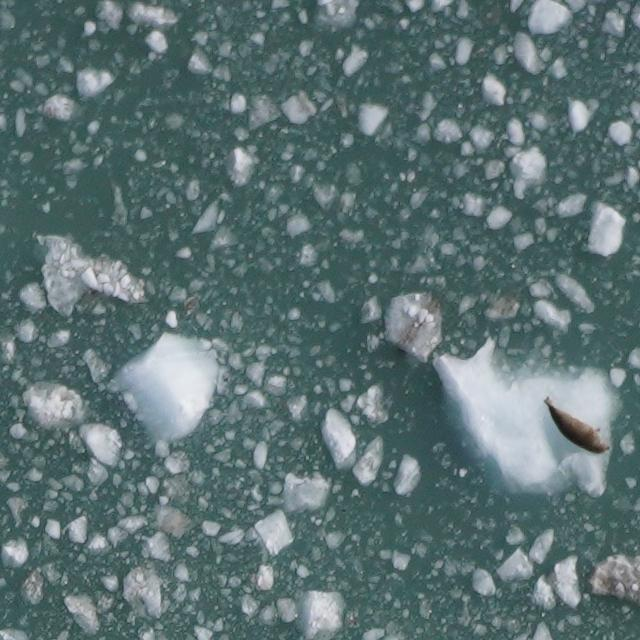seal: (536, 393, 616, 459)
